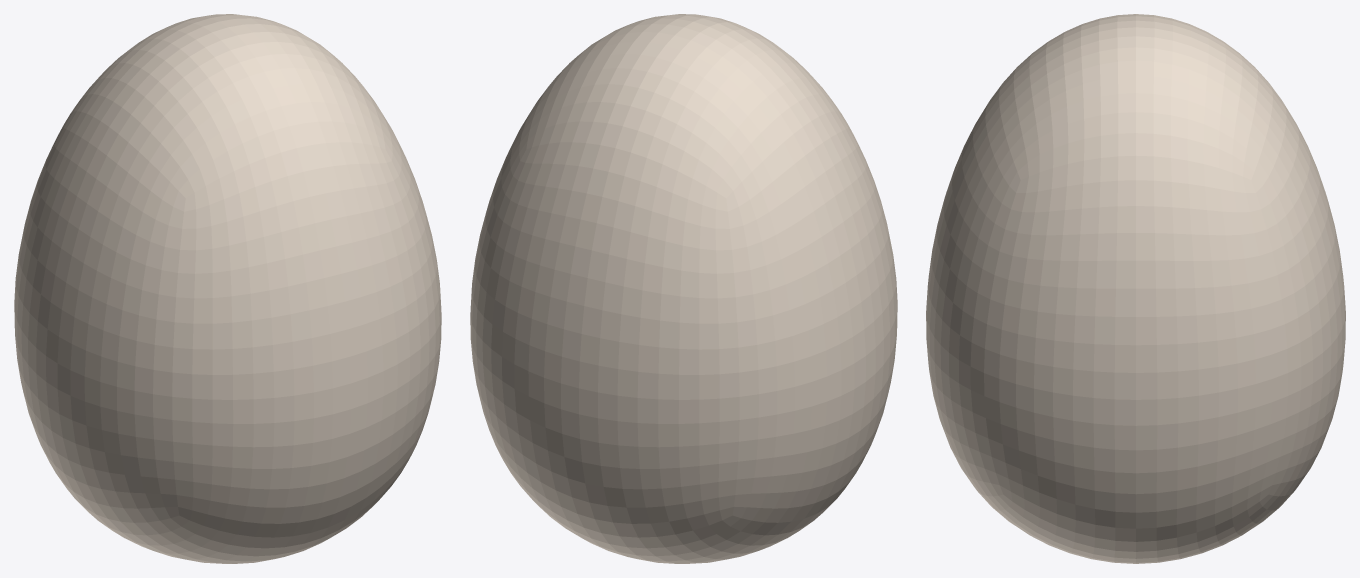
The model's file is Egg.fbx.
3 renders of one model, left to right at view 1: azimuth 30°, elevation 25°; view 2: azimuth 150°, elevation 25°; view 3: azimuth 270°, elevation 25°, orthographic.
Visible parts, largest first — view 1: Cube; view 2: Cube; view 3: Cube.
Boxes of the visible parts, x1,y1,x2,y2 form: Cube: (14, 14, 441, 563); Cube: (470, 14, 897, 563); Cube: (926, 14, 1345, 563).
Size of the model in its own units: 140 by 190 by 140.
